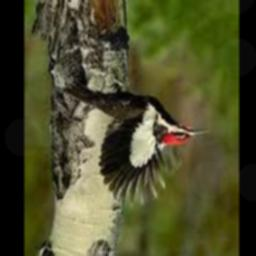Woodpecker: (57, 80, 209, 206)
